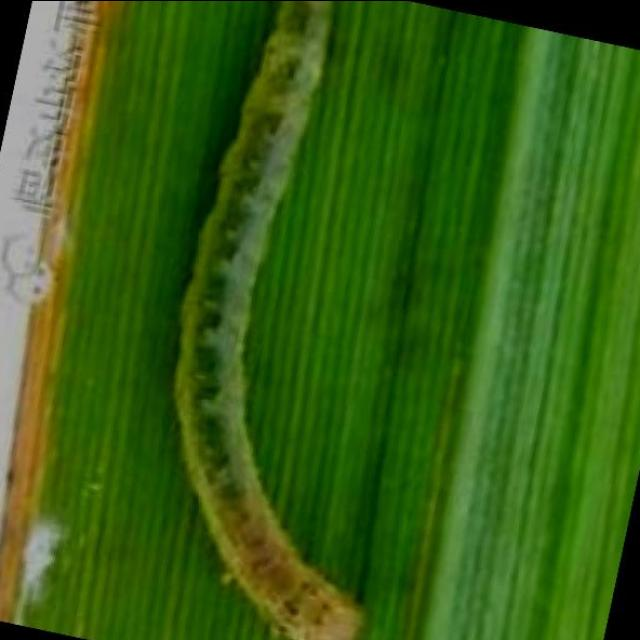leaf folder: (175, 0, 364, 640)
